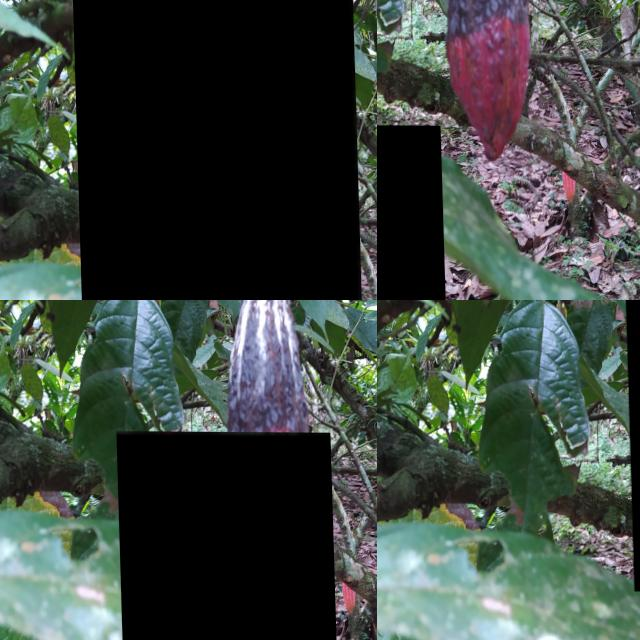Sana: (72, 0, 364, 300), (114, 430, 336, 640), (427, 0, 529, 211), (387, 103, 473, 300), (377, 124, 443, 300), (0, 397, 37, 511)
